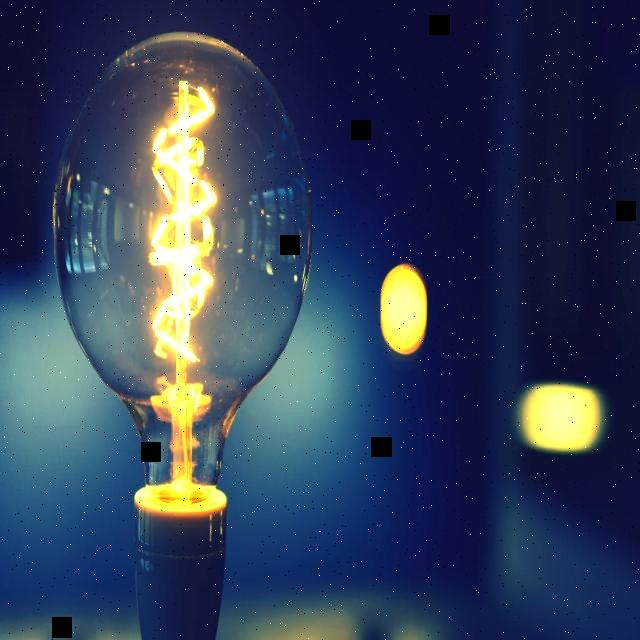light_bulb: (42, 19, 320, 636)
